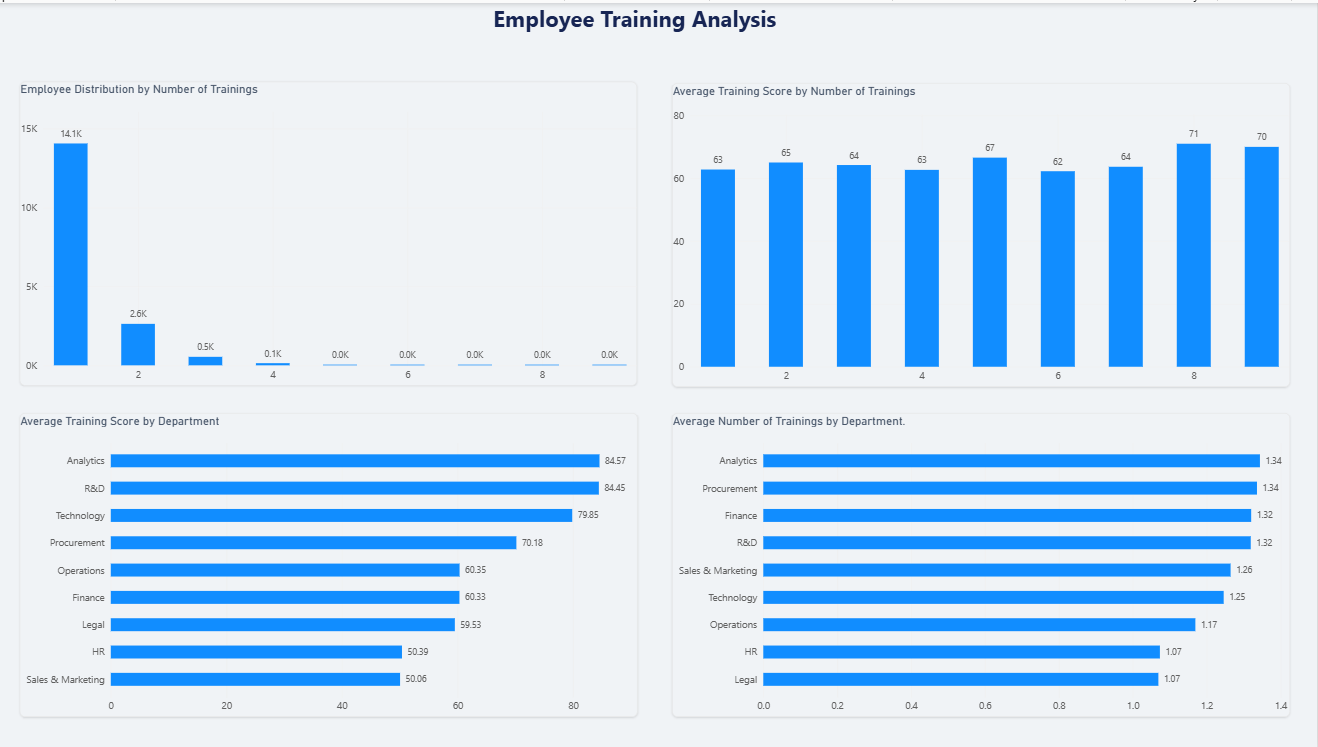

The dashboard page shown, as its layout file describes it:
{"tool":"powerbi","page":{"name":"Training Analysis","canvas":[1920,1080],"ordinal":3},"visuals":[{"type":"textbox","box":[718.4,0,475.9,59.7],"z":0},{"type":"clusteredColumnChart","title":"Employee Distribution by Number of Trainings","fields":{"Y":["Count(HR.employee_id)"],"Category":["HR.no_of_trainings"]},"box":[41.6,114,894,439.7],"z":1000},{"type":"clusteredColumnChart","title":"Average Training Score by Number of Trainings","fields":{"Category":["HR.no_of_trainings"],"Y":["HR.Average Training Score"]},"box":[986.3,115.8,894,440],"z":2000},{"type":"clusteredBarChart","title":"Average Training Score by Department","fields":{"Category":["HR.department"],"Y":["Avg(HR.avg_training_score)"]},"box":[41.6,593.6,894,440],"z":3000},{"type":"clusteredBarChart","title":"Average Number of Trainings by Department.","fields":{"Category":["HR.department"],"Y":["Avg(HR.no_of_trainings)"]},"box":[986,594,894,440],"z":4000}]}

Visuals, with their boxes in screenshot pixels (x1, y1, x2, y2), scaled from the page's 1920x1080 canvas onto the 1318x747 screenshot:
textbox: left=493, top=0, right=820, bottom=41
"Employee Distribution by Number of Trainings" clusteredColumnChart: left=29, top=79, right=642, bottom=383
"Average Training Score by Number of Trainings" clusteredColumnChart: left=677, top=80, right=1291, bottom=384
"Average Training Score by Department" clusteredBarChart: left=29, top=411, right=642, bottom=715
"Average Number of Trainings by Department." clusteredBarChart: left=677, top=411, right=1291, bottom=715
